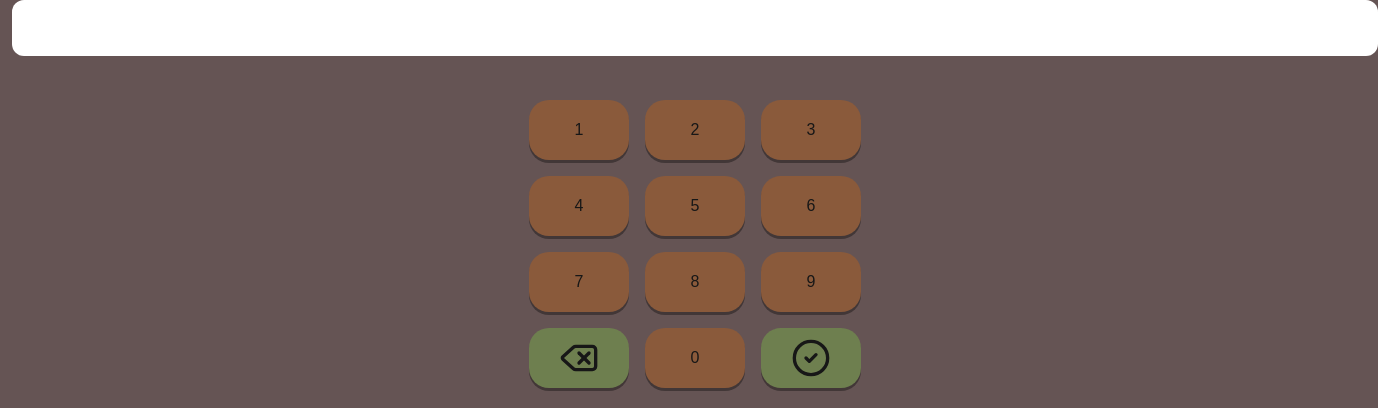
Form › 검색된 유저 데이터가 없는 경우, 에러 메세지를 표시한다.
Click the button "1" at {"x": 579, "y": 130}, box top-left (529, 100), bottom-right (629, 160)
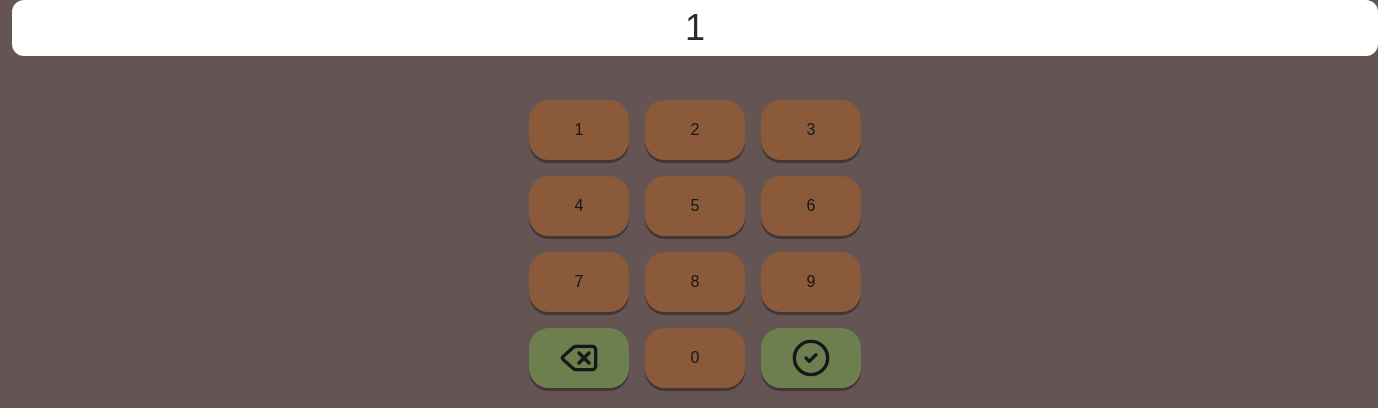
Click the button "2" at {"x": 695, "y": 130}, box top-left (645, 100), bottom-right (745, 160)
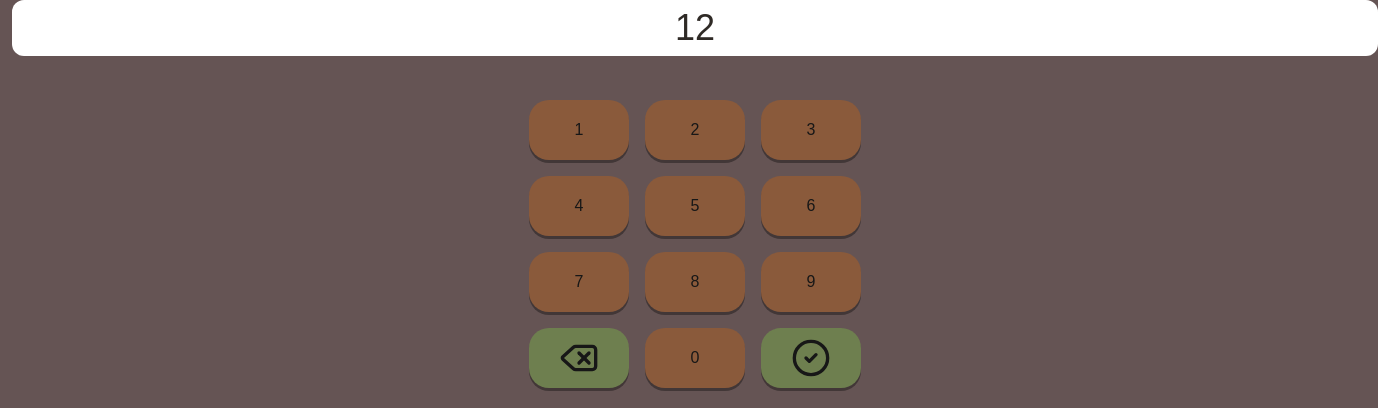
Click the button "3" at {"x": 811, "y": 130}, box top-left (761, 100), bottom-right (861, 160)
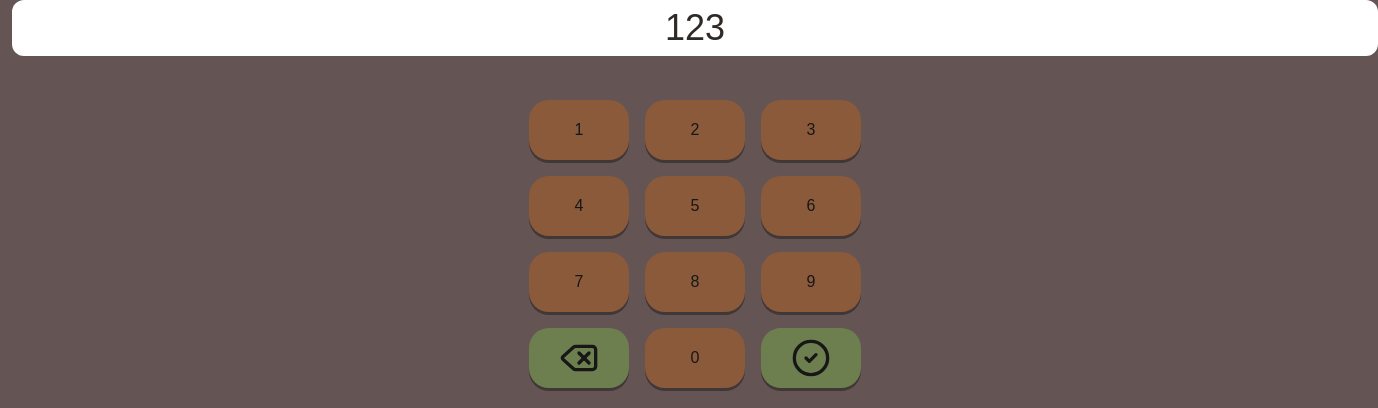
Click the button "4" at {"x": 579, "y": 206}, box top-left (529, 176), bottom-right (629, 236)
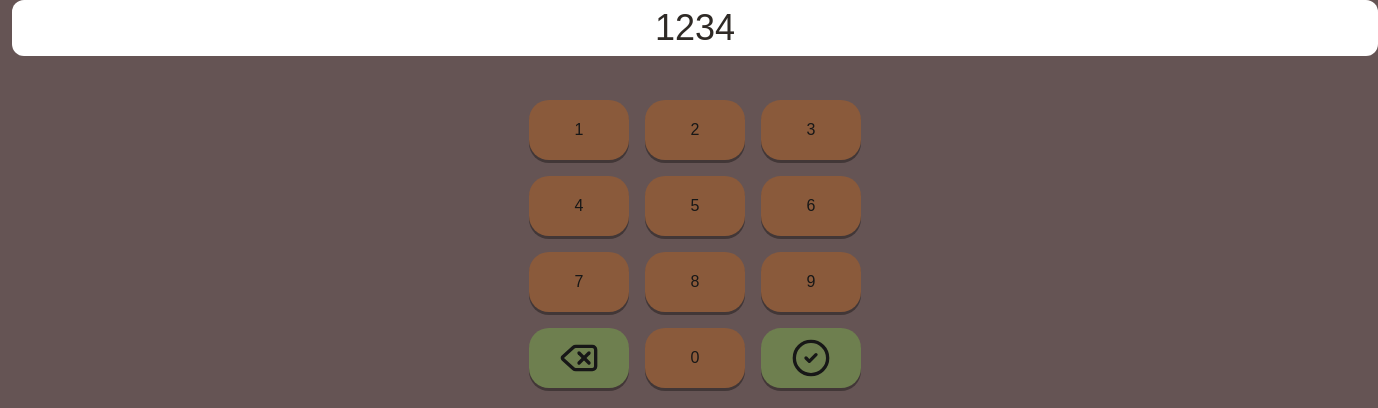
Submit the form
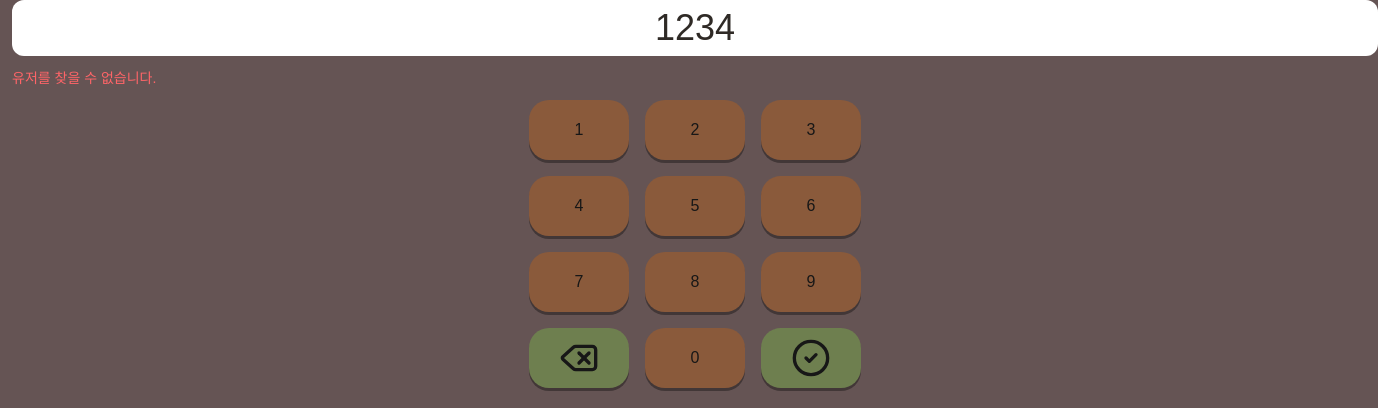
Expected: the text with test id "error-message" reads "유저를 찾을 수 없습니다.", top-left (12, 70), bottom-right (156, 86)
